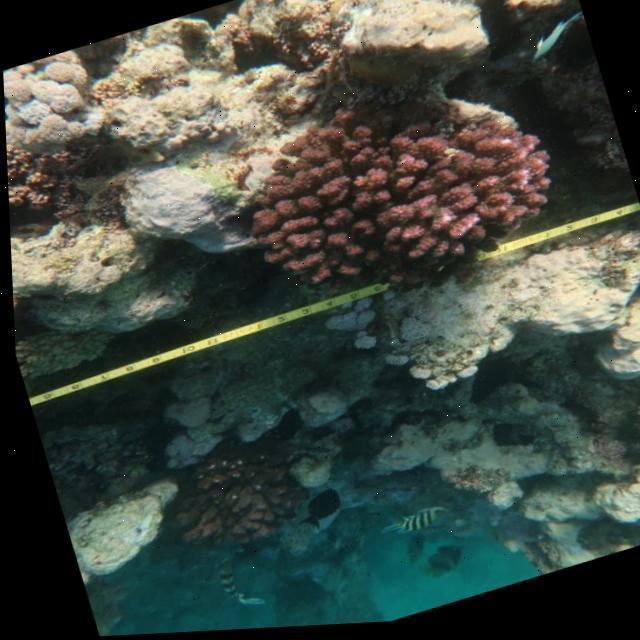Bleached Coral: (1, 39, 134, 170)
Healthy Coral: (207, 60, 566, 326), (145, 440, 307, 574)
